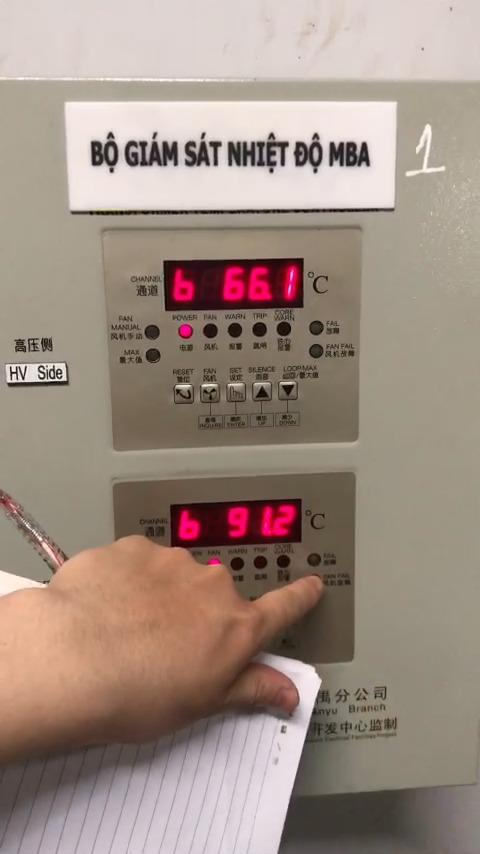led: (308, 320, 325, 337), (252, 321, 269, 338), (177, 324, 195, 340), (202, 323, 219, 339), (276, 322, 292, 338), (145, 324, 161, 340), (145, 347, 161, 363), (254, 555, 270, 571), (207, 556, 222, 573), (228, 323, 244, 338), (309, 344, 324, 360), (230, 557, 245, 573), (276, 554, 291, 569), (307, 553, 323, 567)
